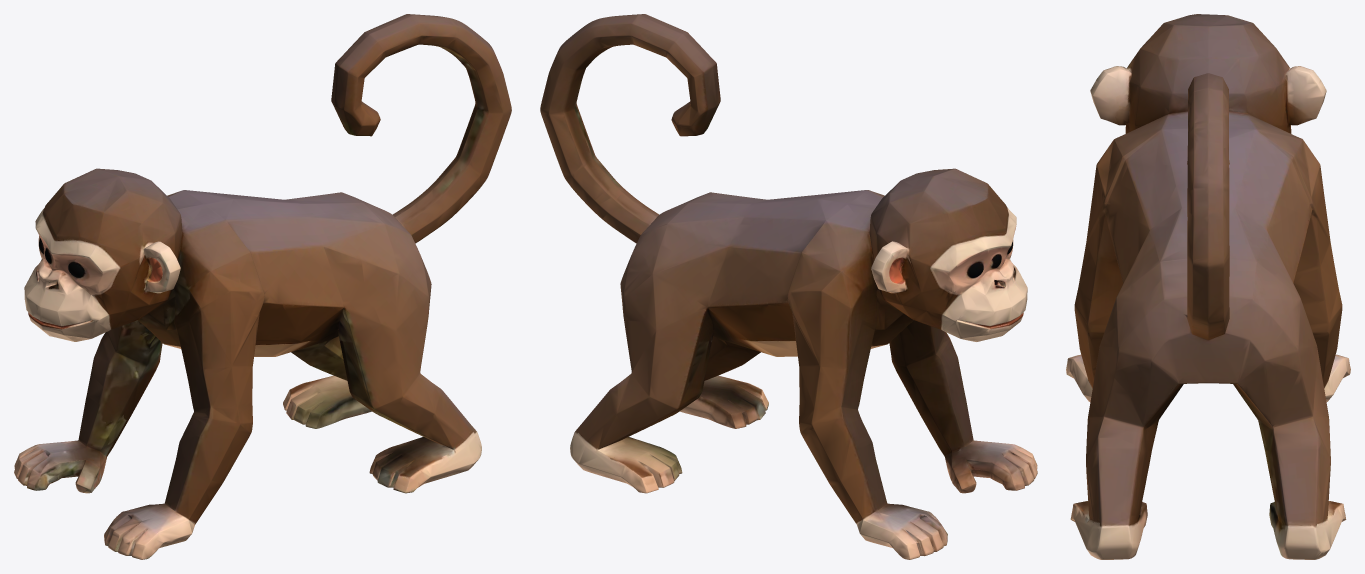
Rendered from monkey.glb.
3 renders of one model, left to right at view 1: azimuth 30°, elevation 25°; view 2: azimuth 150°, elevation 25°; view 3: azimuth 270°, elevation 25°, orthographic. The views are drawn at different scales.
Parts seen in each view (by area): view 1: node_0; view 2: node_0; view 3: node_0.
Part boxes in pixels (x1,y1,x2,y2): node_0: (14, 14, 511, 559); node_0: (540, 14, 1037, 559); node_0: (1066, 14, 1350, 559).
Size of the model in its own units: 0.964 by 0.8137 by 0.4464.
Materials: 1 (1 with a texture image).
